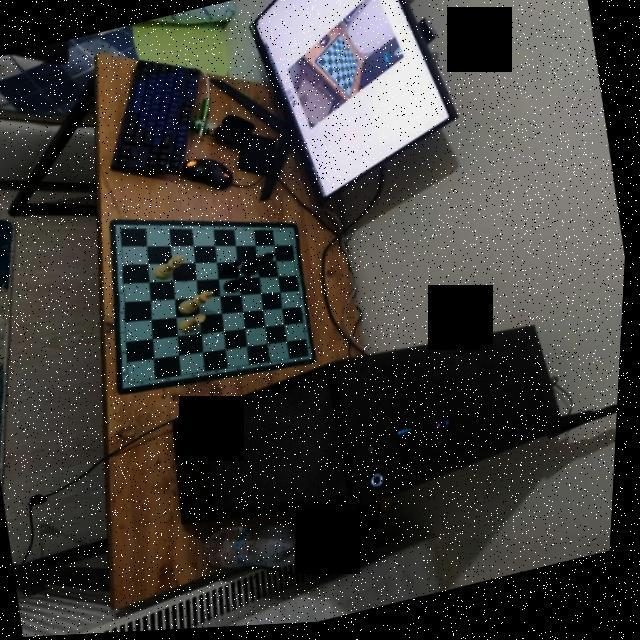chess-table-corners: (126, 378, 140, 391), (117, 223, 131, 236), (288, 228, 300, 240), (307, 353, 318, 363)
